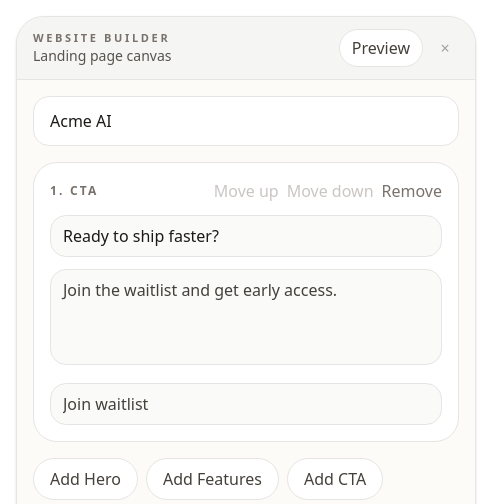
Test case: WebsiteBuilder › renders cta preview with the dark background section styling
Click the button "Preview".
click(381, 48)  # box top-left (339, 29), bottom-right (423, 67)
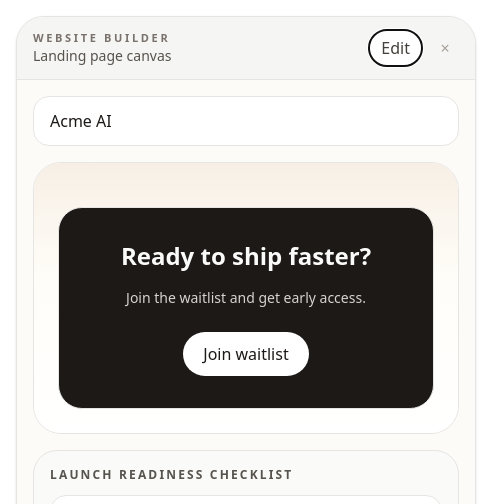
Expected: the button "Join waitlist" is shown, top-left (183, 332), bottom-right (309, 376)
